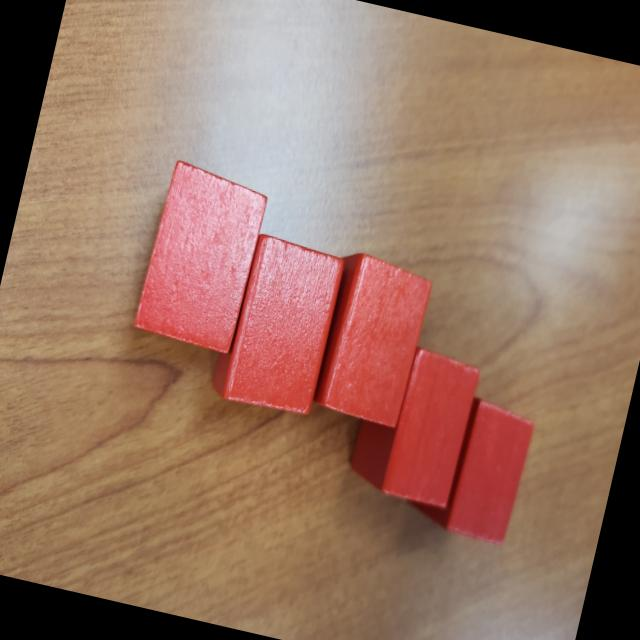red: (130, 160, 274, 356), (207, 230, 353, 422), (343, 338, 482, 508), (310, 249, 437, 429), (440, 396, 539, 549)
